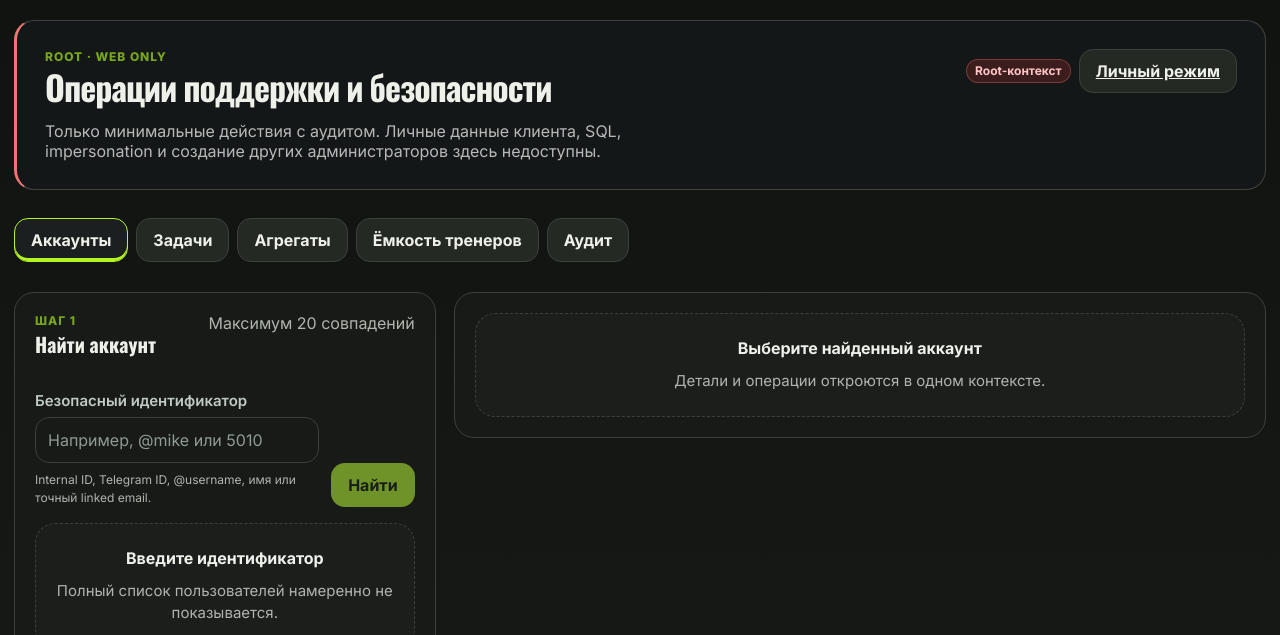
Test case: AdminPage › показывает агрегаты без raw events и отдельный audit history
This screenshot has width=1280, height=635.
Click the button "Агрегаты".
click(293, 240)  # box [237, 218, 348, 262]
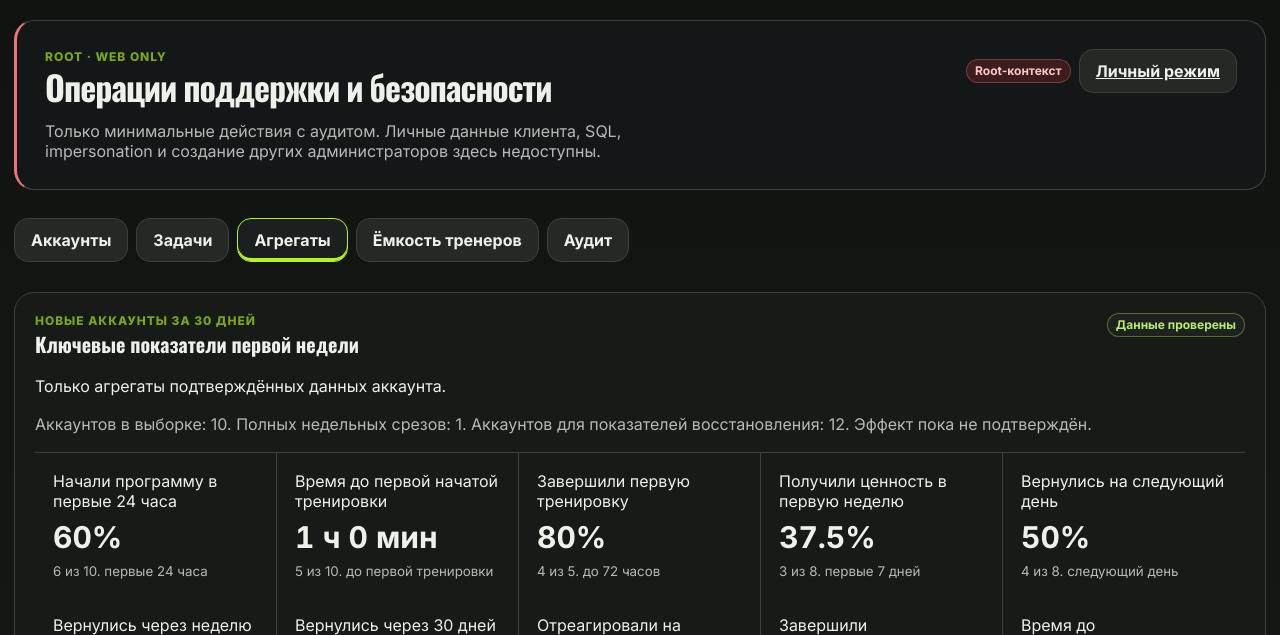
Result: the text "60%" is shown at [53, 519, 122, 555]
Result: the text "Данные проверены" is shown at [1107, 313, 1245, 337]
Result: the text "Только агрегаты подтверждённых данных аккаунта." is shown at [35, 376, 446, 396]
Click the button "Аудит".
click(588, 240)  # box [547, 218, 629, 262]
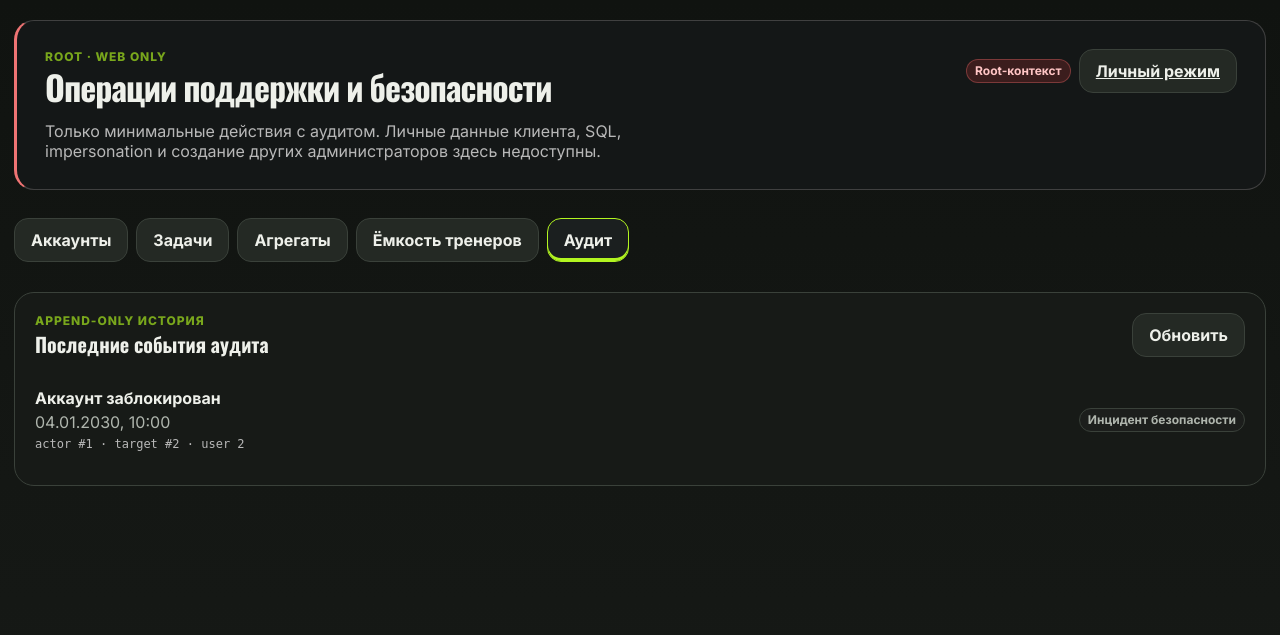
Result: the text "Аккаунт заблокирован" is shown at [35, 388, 245, 408]
Result: the text "Инцидент безопасности" is shown at [1079, 408, 1245, 432]
